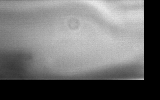cell: (65, 16, 81, 33)
